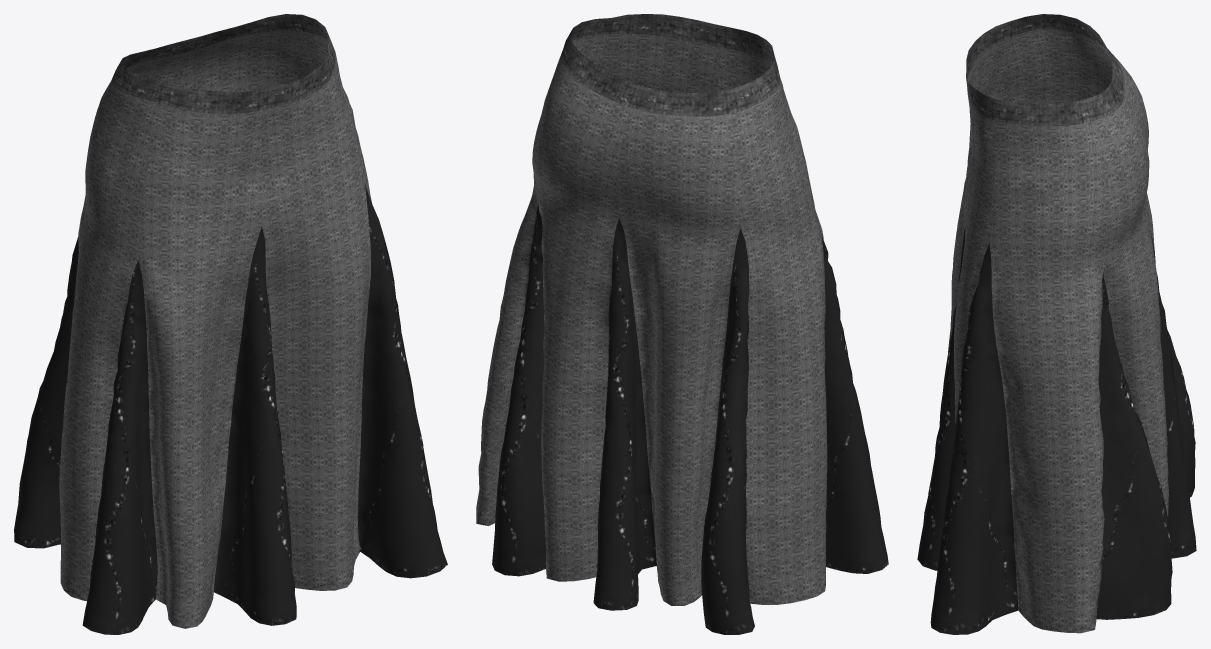
Rendered from elvs-gored-midi-skirt.glb.
3 renders of one model, left to right at view 1: azimuth 30°, elevation 25°; view 2: azimuth 150°, elevation 25°; view 3: azimuth 270°, elevation 25°, orthographic. The views are drawn at different scales.
Parts seen in each view (by area): view 1: Human.elvs_gored_midi_skirt; view 2: Human.elvs_gored_midi_skirt; view 3: Human.elvs_gored_midi_skirt.
Boxes of the visible parts, x1,y1,x2,y2 form: Human.elvs_gored_midi_skirt: (14,14,447,634); Human.elvs_gored_midi_skirt: (476,14,888,634); Human.elvs_gored_midi_skirt: (917,14,1196,634).
Bounding box in the file's own units: 0.5181 × 0.729 × 0.3632.
1 material, 1 textured.
